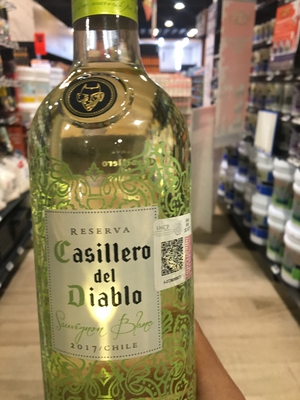casillero del diablo sauvignon blanc: (22, 11, 202, 400)
